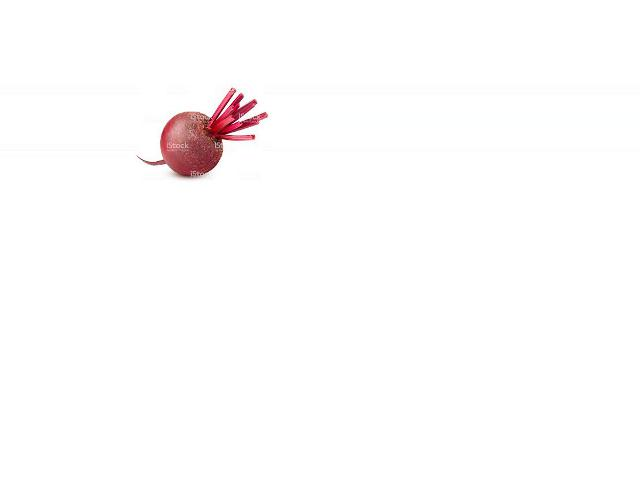beet: (137, 88, 268, 175)
